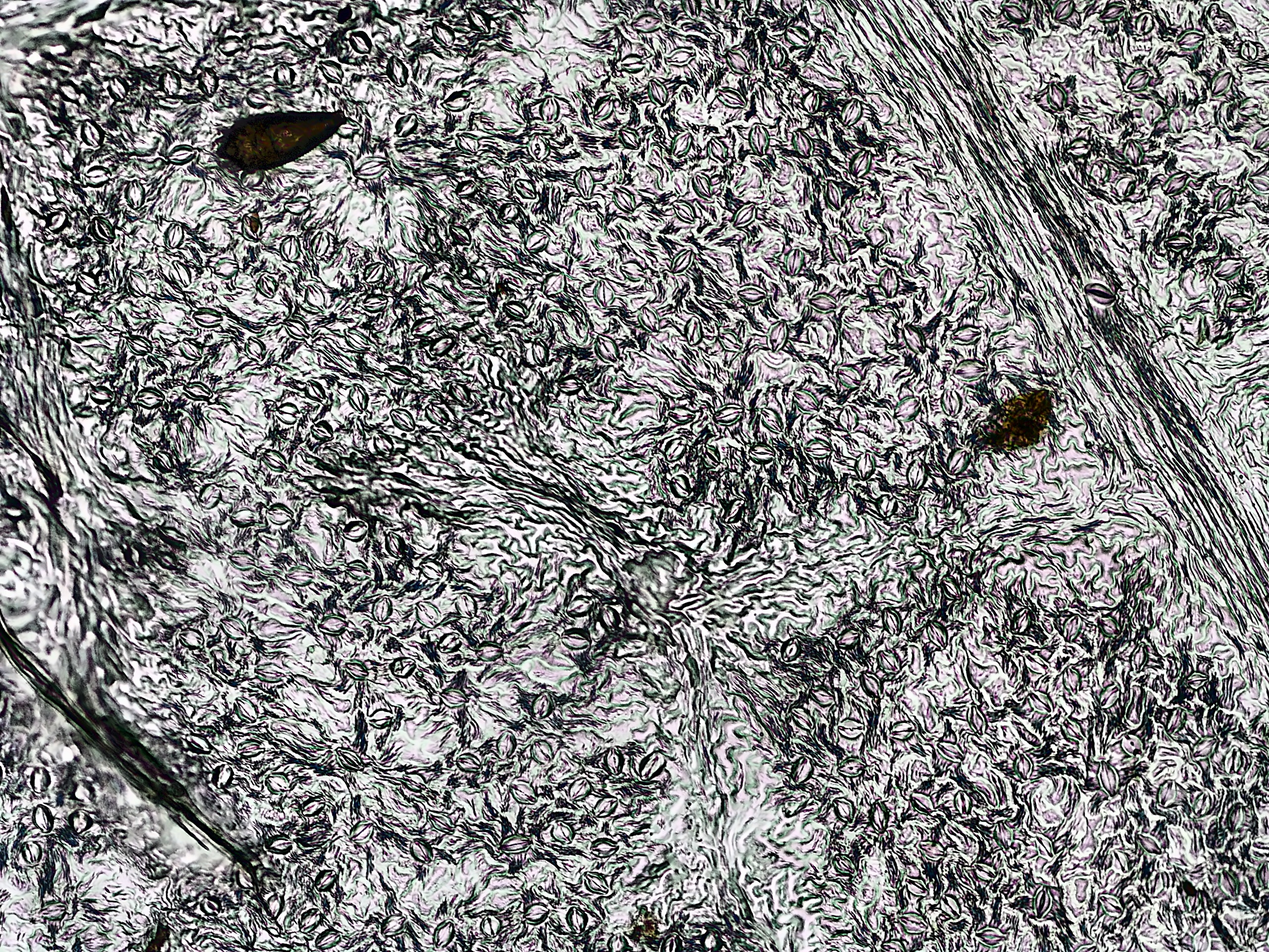stomata: (352, 155, 390, 179), (638, 749, 666, 781), (1083, 282, 1117, 308), (952, 357, 988, 381), (1097, 760, 1120, 797), (765, 318, 788, 352), (846, 149, 872, 179), (525, 131, 550, 162), (892, 395, 921, 421), (233, 695, 259, 724), (414, 600, 441, 627), (946, 447, 972, 475), (89, 216, 115, 244), (711, 403, 744, 425), (336, 747, 365, 772), (595, 334, 620, 363), (869, 799, 890, 833), (386, 55, 409, 86), (902, 323, 925, 354), (158, 70, 183, 98), (791, 390, 819, 415), (1162, 171, 1191, 195), (853, 451, 877, 480), (749, 123, 770, 156), (878, 267, 899, 300), (907, 458, 928, 491), (714, 329, 744, 352), (940, 387, 963, 417), (897, 912, 928, 934), (192, 307, 223, 329), (1033, 885, 1053, 919), (541, 271, 567, 297), (669, 248, 694, 275), (220, 616, 247, 641), (573, 168, 594, 200), (591, 280, 615, 308), (185, 730, 213, 754), (808, 292, 838, 314), (926, 620, 948, 650), (1218, 867, 1240, 897), (561, 627, 591, 649), (433, 919, 455, 949), (254, 663, 287, 683), (157, 525, 187, 547), (123, 179, 145, 209), (440, 90, 471, 111), (1046, 81, 1067, 112), (1213, 258, 1244, 279), (975, 926, 1006, 947), (317, 615, 348, 636), (837, 364, 862, 390), (81, 119, 105, 146), (832, 796, 856, 823), (432, 21, 455, 49), (1122, 138, 1145, 166), (612, 186, 635, 214), (1135, 833, 1163, 856), (790, 756, 813, 784), (1096, 1, 1128, 21), (181, 381, 213, 401), (840, 97, 862, 126), (792, 129, 814, 158), (638, 306, 660, 335), (829, 235, 851, 264), (836, 717, 865, 739), (965, 706, 987, 735), (136, 387, 165, 409), (169, 260, 191, 289), (285, 565, 315, 586), (385, 531, 406, 561), (347, 383, 368, 413), (550, 819, 576, 843), (409, 837, 433, 863), (67, 810, 93, 834), (198, 483, 222, 509), (345, 328, 371, 352), (1167, 108, 1190, 135), (706, 136, 729, 163), (859, 672, 882, 699), (565, 595, 592, 618), (531, 692, 554, 719), (454, 592, 477, 619), (388, 409, 415, 432), (736, 284, 767, 304), (1129, 642, 1149, 673), (500, 834, 531, 854), (1225, 292, 1253, 314), (783, 248, 805, 276), (837, 405, 859, 433), (837, 756, 865, 778), (566, 906, 588, 934), (29, 765, 51, 793), (216, 35, 245, 56), (167, 144, 196, 165), (804, 438, 833, 459), (881, 607, 902, 636), (936, 741, 965, 762), (31, 804, 52, 833), (266, 503, 295, 524), (385, 364, 414, 385), (716, 88, 746, 108), (760, 408, 784, 433), (1061, 718, 1086, 742), (1099, 893, 1124, 917), (530, 739, 554, 764), (467, 7, 490, 33), (583, 871, 609, 894), (297, 909, 323, 932), (664, 437, 687, 463), (454, 132, 480, 155), (284, 318, 310, 341), (310, 419, 336, 442), (198, 69, 220, 96), (1001, 2, 1028, 24), (1210, 69, 1232, 96), (748, 442, 775, 464), (510, 781, 537, 803), (315, 928, 342, 950), (823, 180, 842, 211), (950, 325, 981, 344), (671, 130, 692, 158), (522, 902, 550, 923), (264, 773, 292, 794), (454, 752, 482, 773), (265, 833, 293, 854), (475, 641, 503, 662), (648, 78, 668, 107), (1062, 666, 1082, 695), (439, 688, 468, 708), (631, 13, 663, 31), (726, 51, 750, 75), (568, 777, 592, 801), (179, 338, 203, 362), (75, 272, 99, 296), (319, 60, 344, 83), (1066, 136, 1091, 159), (792, 706, 815, 731), (598, 605, 620, 631), (313, 869, 339, 891), (345, 559, 371, 581), (371, 595, 393, 621), (417, 557, 443, 579), (261, 449, 287, 471), (700, 444, 722, 470), (790, 474, 809, 504), (1227, 802, 1246, 832), (108, 75, 129, 102), (593, 94, 614, 121), (691, 172, 712, 199), (993, 821, 1014, 848), (809, 686, 836, 707), (178, 627, 205, 648), (230, 506, 257, 527), (163, 222, 184, 249), (84, 166, 111, 187), (1157, 778, 1177, 806), (918, 840, 946, 860), (604, 746, 624, 774), (213, 762, 233, 790), (556, 376, 584, 396), (348, 31, 372, 54), (733, 202, 756, 226), (875, 494, 898, 518), (876, 650, 900, 673), (1030, 691, 1054, 714), (350, 819, 373, 843), (19, 840, 42, 864), (524, 230, 548, 253), (1063, 614, 1082, 643), (590, 838, 619, 857), (237, 739, 266, 758), (1090, 160, 1112, 185), (835, 627, 860, 649), (1099, 683, 1121, 708), (1165, 708, 1187, 733), (593, 796, 618, 818), (244, 337, 266, 362), (127, 334, 152, 356), (1125, 68, 1151, 89), (619, 261, 645, 282), (429, 335, 455, 356), (1177, 29, 1204, 49), (684, 316, 702, 346), (807, 324, 827, 351), (280, 235, 300, 262), (1013, 607, 1032, 635), (1224, 745, 1243, 773), (497, 730, 516, 758), (242, 214, 261, 242), (673, 201, 696, 224), (1120, 733, 1143, 756), (372, 432, 395, 455), (940, 577, 962, 601), (910, 791, 932, 815), (939, 894, 961, 918), (381, 915, 405, 937), (448, 381, 470, 405), (362, 261, 386, 283), (781, 637, 802, 662), (429, 811, 454, 832), (391, 657, 416, 678), (343, 520, 368, 541), (214, 258, 239, 279), (1163, 235, 1192, 253), (1213, 186, 1233, 212), (954, 789, 973, 816), (665, 48, 695, 65), (833, 854, 856, 876), (669, 474, 691, 497), (58, 80, 82, 101), (785, 25, 809, 46), (1097, 615, 1121, 636), (1191, 792, 1212, 816), (480, 914, 501, 938), (301, 795, 325, 816), (438, 632, 462, 653), (667, 406, 695, 424), (275, 403, 299, 424), (304, 284, 325, 308), (1143, 100, 1163, 125), (369, 708, 394, 728), (230, 549, 255, 569), (411, 316, 436, 336), (284, 195, 309, 215), (768, 43, 787, 69), (889, 721, 915, 740), (1014, 753, 1033, 779), (971, 862, 997, 881), (128, 270, 147, 296), (1151, 870, 1168, 899), (540, 96, 558, 123), (311, 228, 329, 255), (395, 114, 417, 136), (426, 404, 448, 426), (619, 127, 640, 150), (345, 659, 368, 680), (304, 380, 327, 401), (45, 211, 68, 232), (402, 771, 426, 791), (423, 227, 443, 251), (89, 385, 113, 405), (266, 893, 283, 921), (531, 338, 548, 366), (1036, 833, 1054, 859), (246, 87, 269, 107), (40, 903, 67, 920), (1135, 11, 1154, 35), (1237, 97, 1261, 116), (724, 499, 743, 523), (504, 300, 528, 319), (362, 294, 387, 312), (515, 178, 536, 199), (450, 224, 471, 245), (152, 451, 173, 472), (274, 63, 294, 85), (258, 274, 277, 297), (620, 54, 644, 72), (1024, 654, 1048, 672), (1112, 850, 1129, 875), (1116, 176, 1136, 197), (201, 895, 222, 915), (467, 265, 486, 287), (125, 545, 144, 567), (1187, 672, 1210, 690), (457, 180, 478, 198), (803, 90, 820, 112), (906, 879, 928, 896), (155, 551, 177, 568), (500, 201, 519, 220), (1240, 40, 1258, 60), (678, 86, 695, 105)
